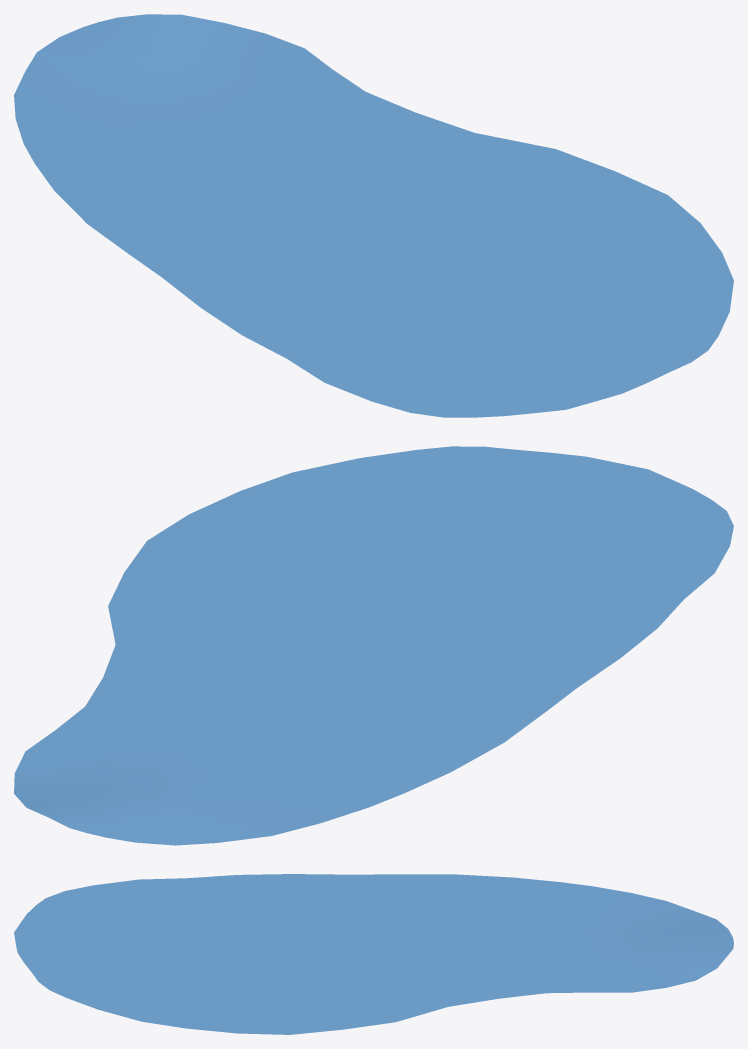
Rendered from pond.fbx.
3 renders of one model, top to bottom at view 1: azimuth 30°, elevation 25°; view 2: azimuth 150°, elevation 25°; view 3: azimuth 270°, elevation 25°, orthographic. The views are drawn at different scales.
Visible parts, largest first — view 1: pond; view 2: pond; view 3: pond.
Part boxes in pixels (x1,y1,x2,y2): pond: [14, 14, 733, 417]; pond: [14, 446, 733, 845]; pond: [14, 874, 733, 1034].
Size of the model in its own units: 377 by 5.07 by 713.
1 material, 1 textured.
